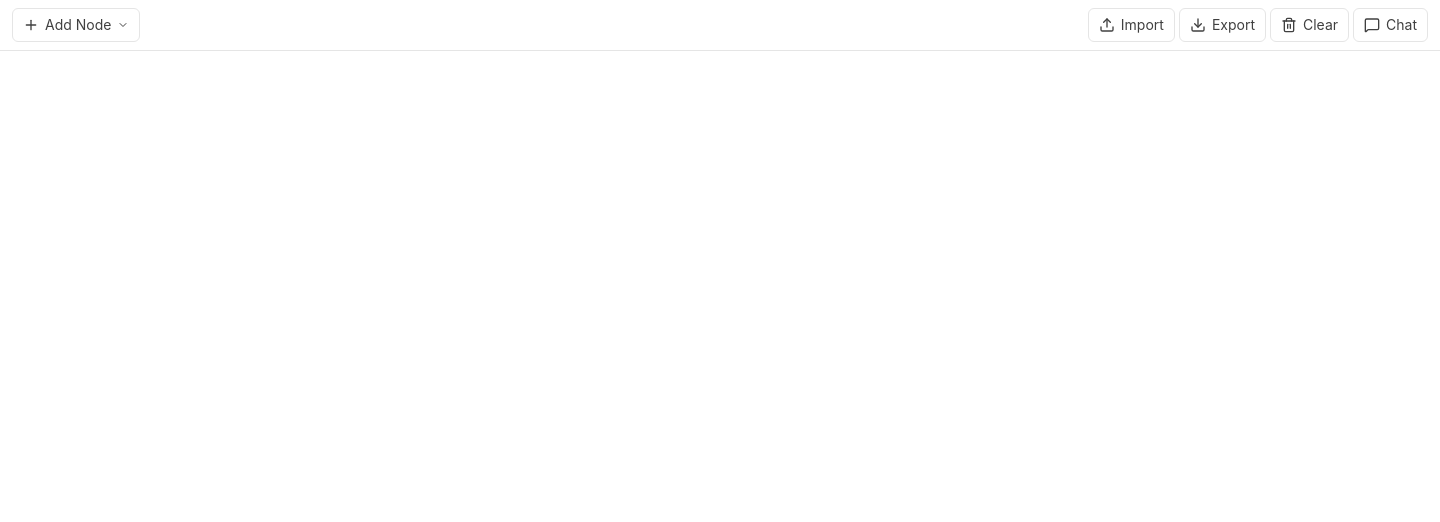
Test: Toolbar › opens the add menu on click and closes again on a second click
What coordinates should you click on to do the following:
click the button with test id "toolbar-add-button"
I would click on:
 (76, 25)
Its box is [12,8,140,42].
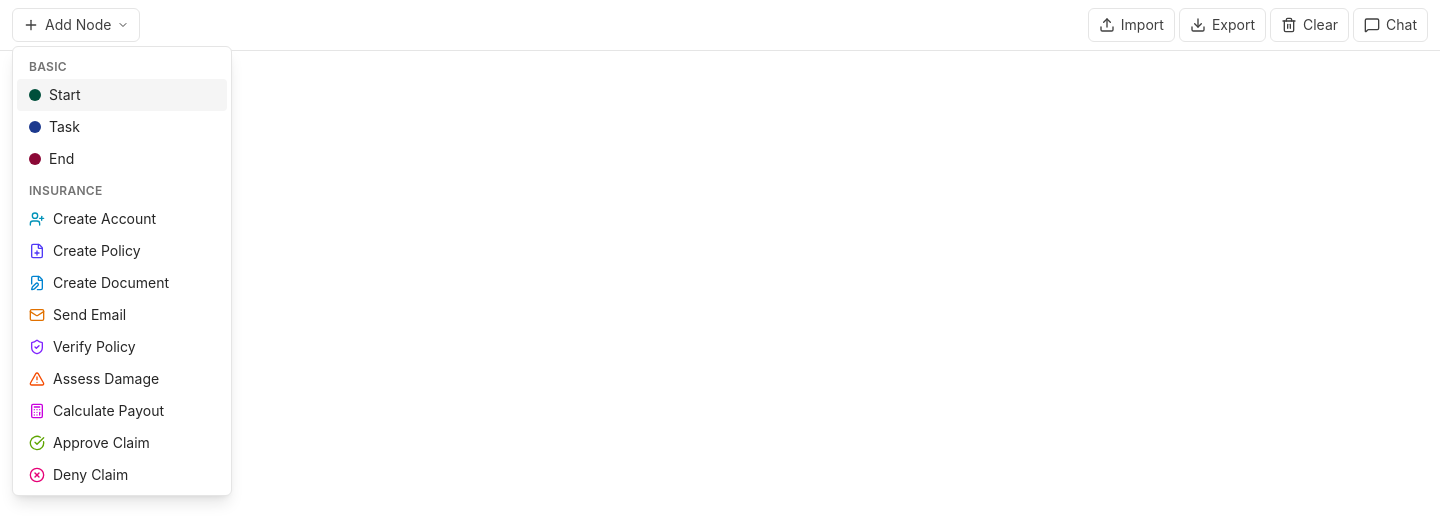
Result: the menu with test id "toolbar-add-menu" is shown at [12,46,232,496]
What coordinates should you click on to do the following:
click the button with test id "toolbar-add-button"
I would click on:
 (76, 25)
Its box is [12,8,140,42].
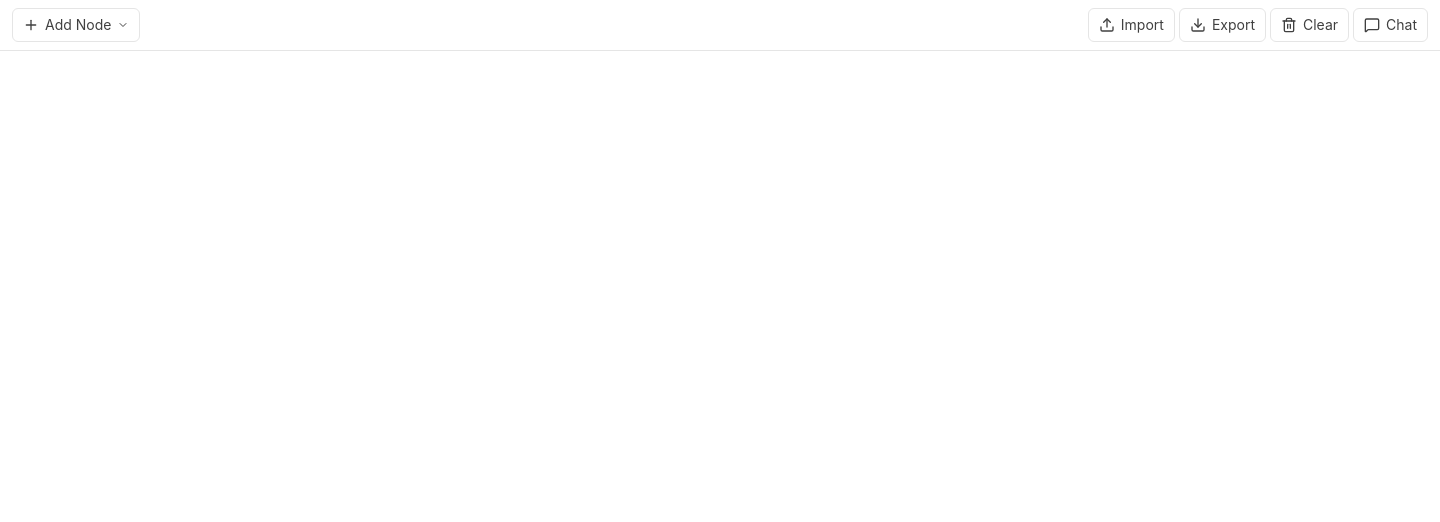
Result: the menu with test id "toolbar-add-menu" is gone
